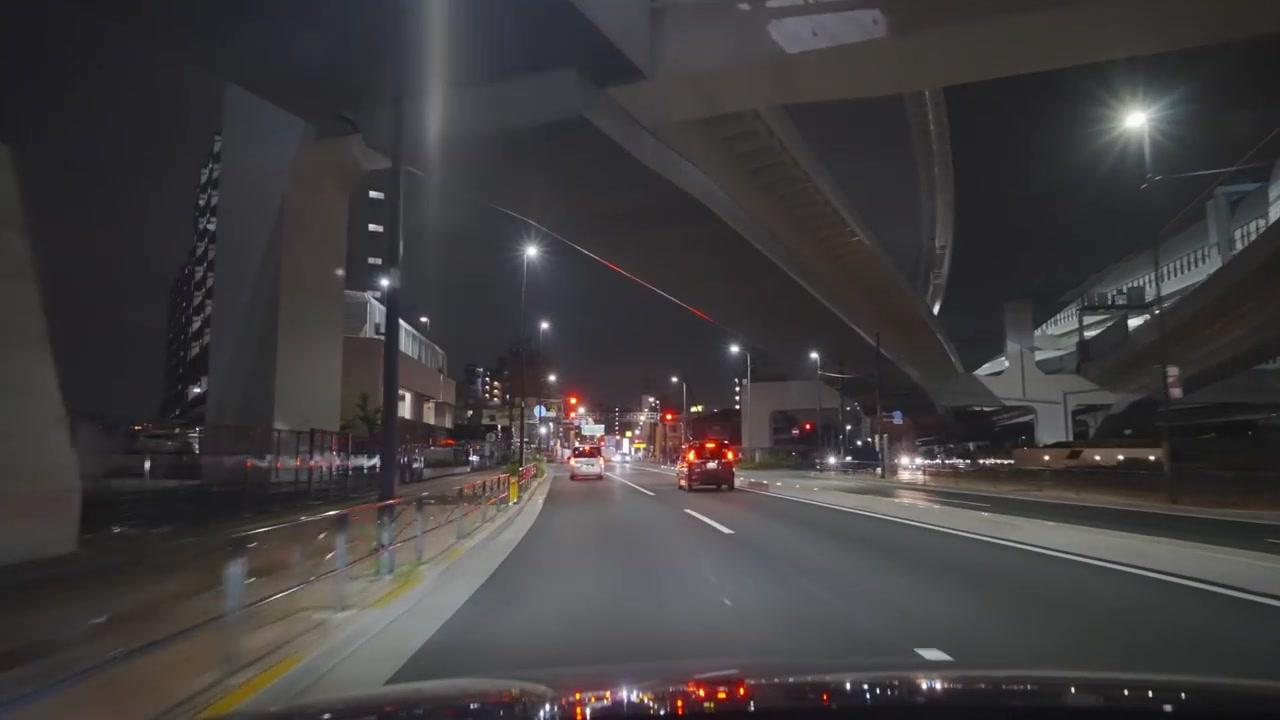car: (676, 442, 735, 492), (569, 456, 604, 482)
traffic light: (344, 166, 401, 291), (567, 397, 577, 414), (663, 412, 677, 422)
